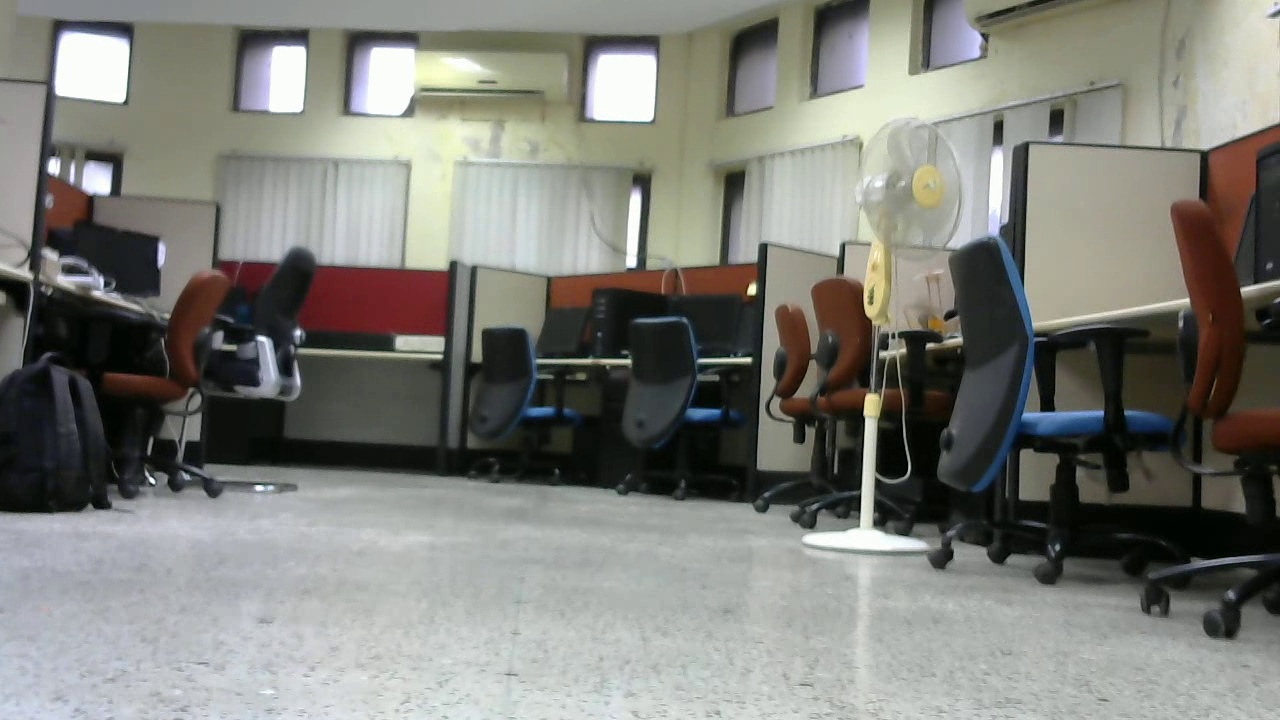chair: (920, 237, 1178, 586), (752, 276, 943, 526), (63, 269, 229, 485), (190, 246, 327, 491), (603, 315, 751, 501), (458, 327, 591, 492)
